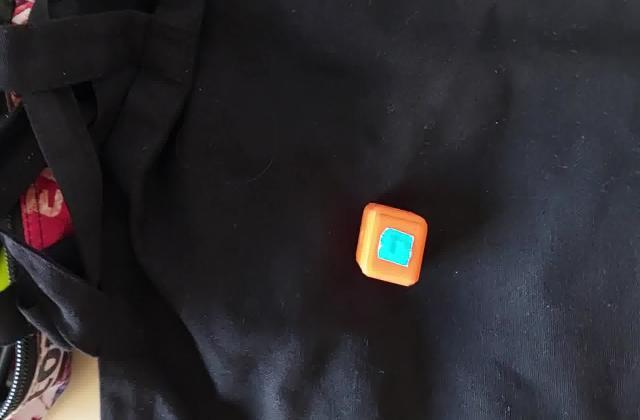blue: (384, 236, 408, 258)
sticker: (352, 200, 428, 290)
